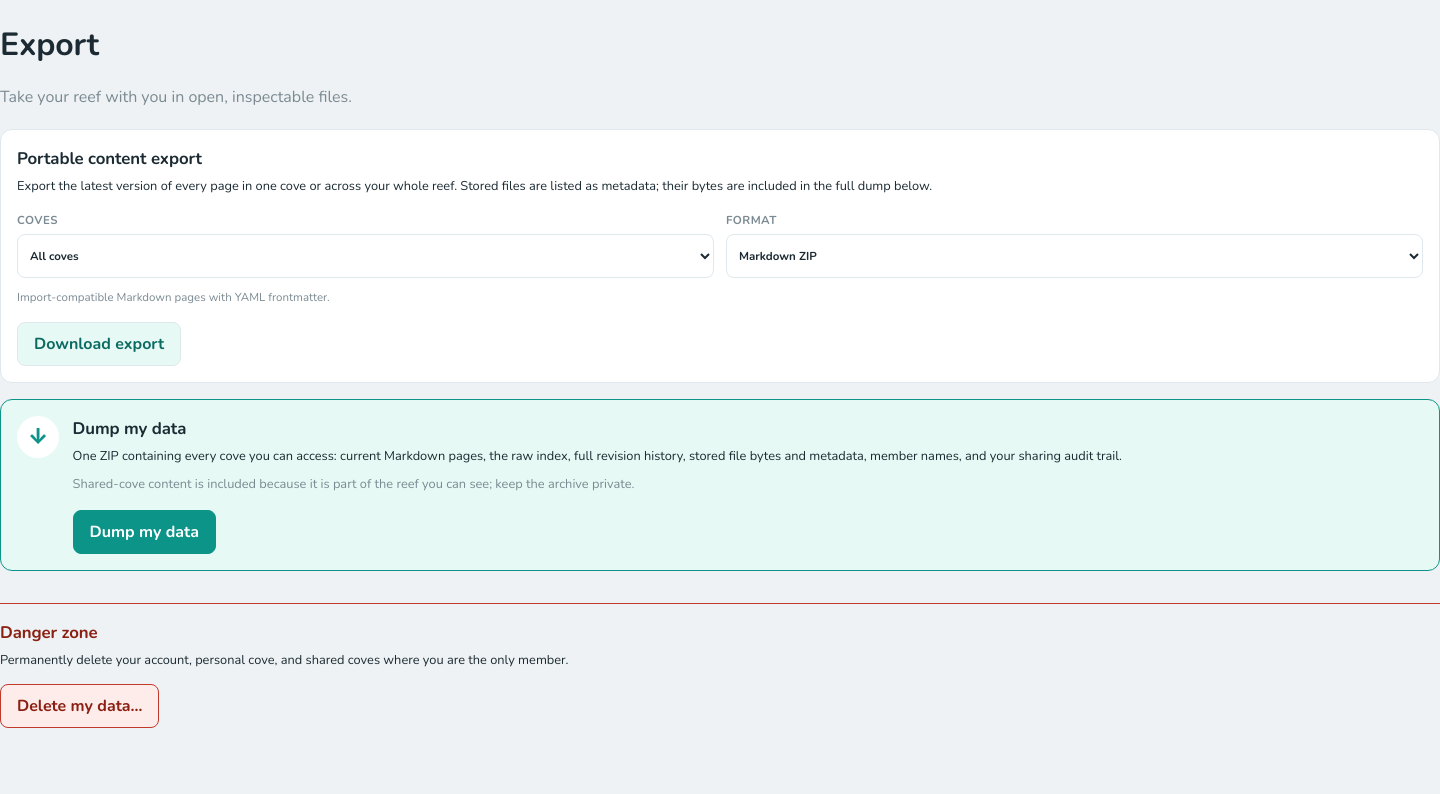
Test case: cancelling clears the guards rather than leaving them armed
Click the button "Delete my data…" at (80, 706), box x1=0 y1=684 x2=160 y2=728
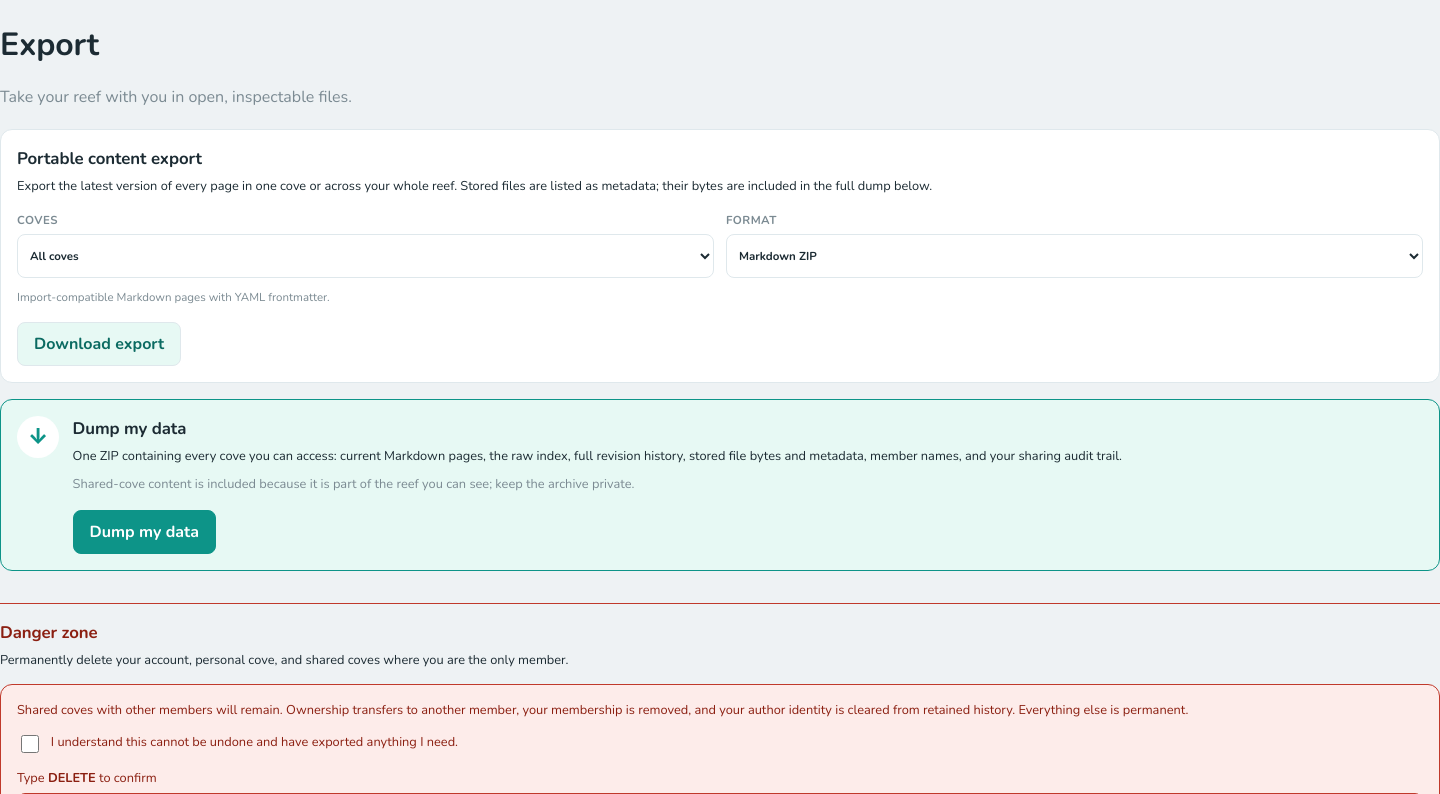
Click the checkbox at (30, 744), box x1=21 y1=735 x2=39 y2=753
(page scrolled)
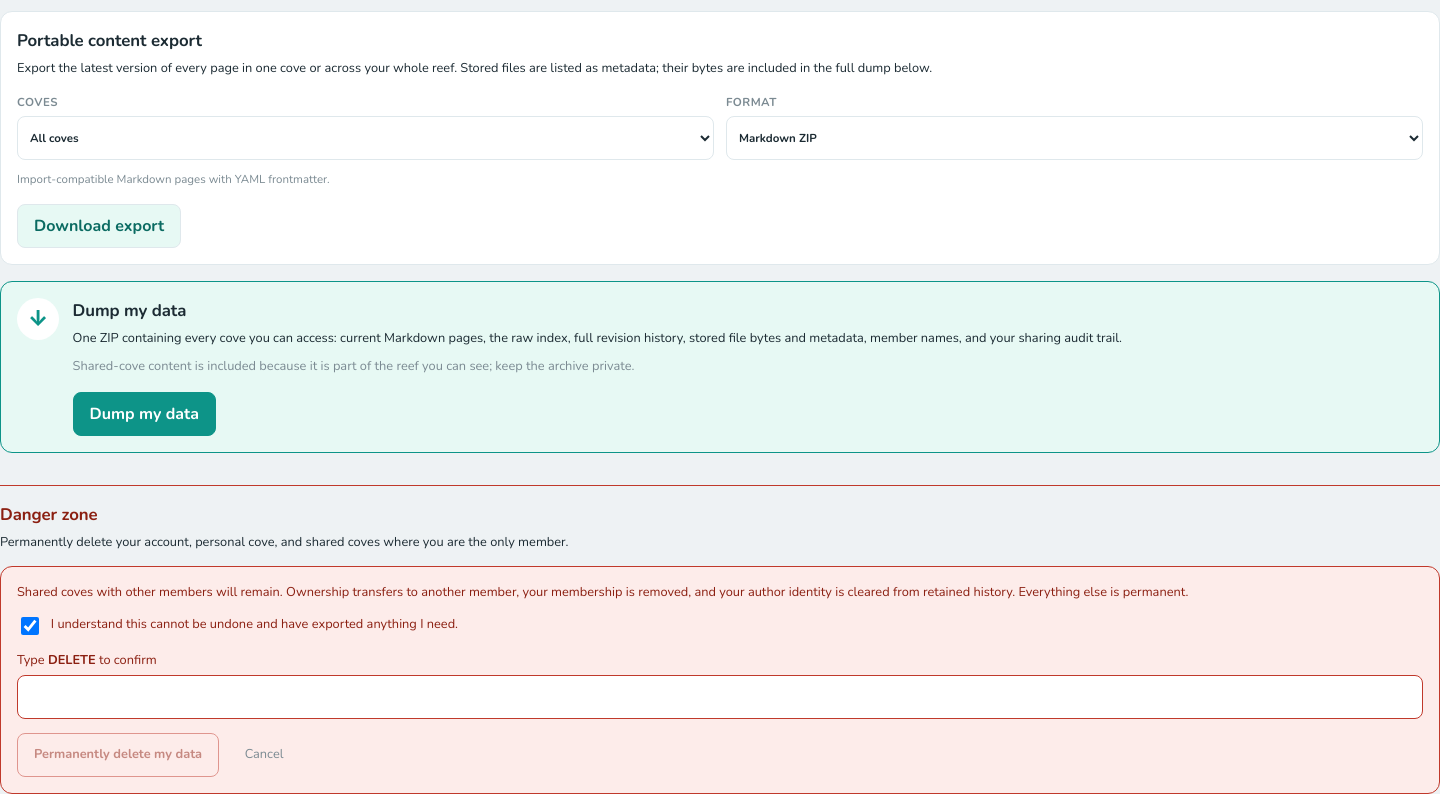
Type "DELETE" into the field labelled "Type DELETE to confirm" at (720, 697), box x1=17 y1=675 x2=1423 y2=719
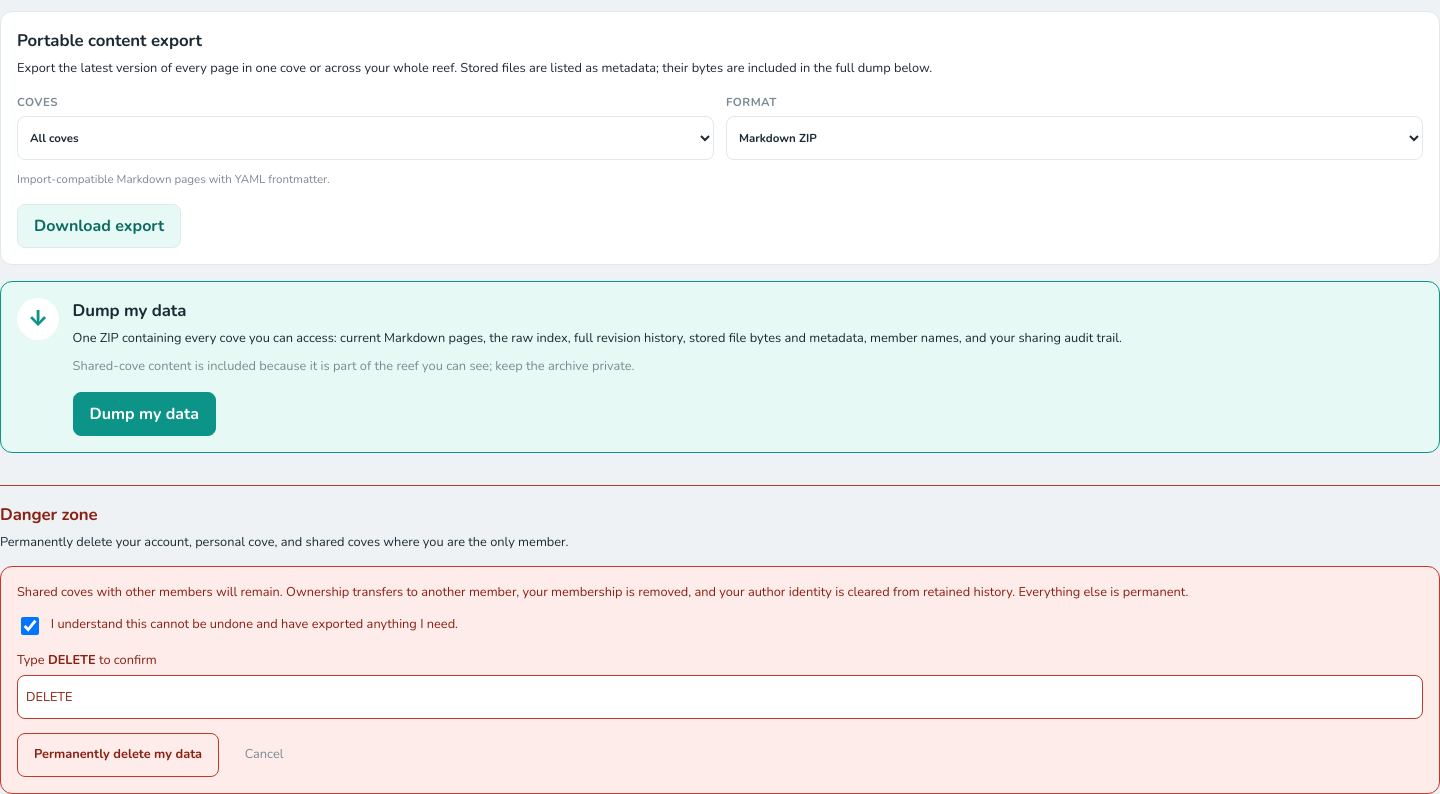
Click the button "Cancel" at (264, 755), box x1=229 y1=733 x2=300 y2=777
(page scrolled)
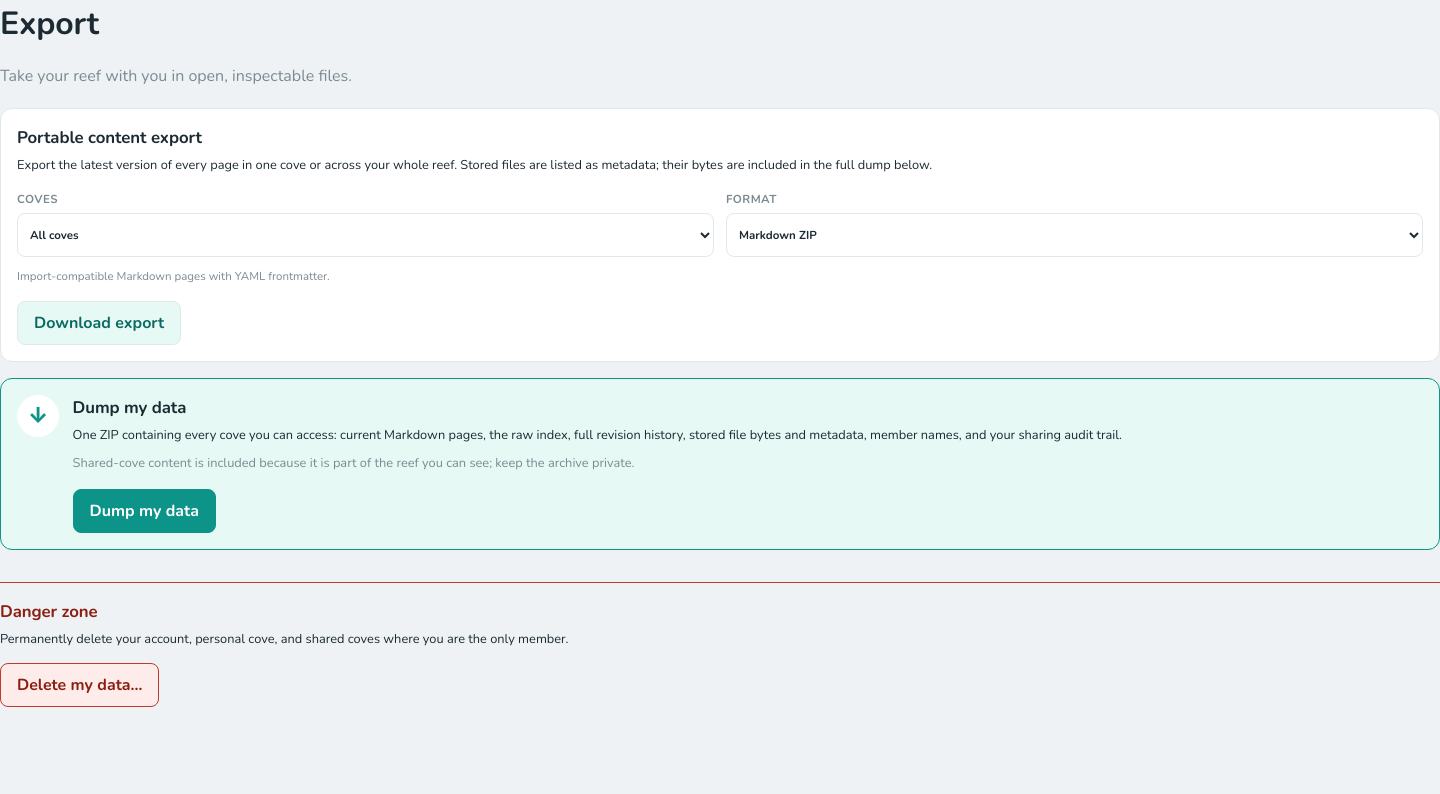
Click the button "Delete my data…" at (80, 685), box x1=0 y1=663 x2=160 y2=707
(page scrolled)
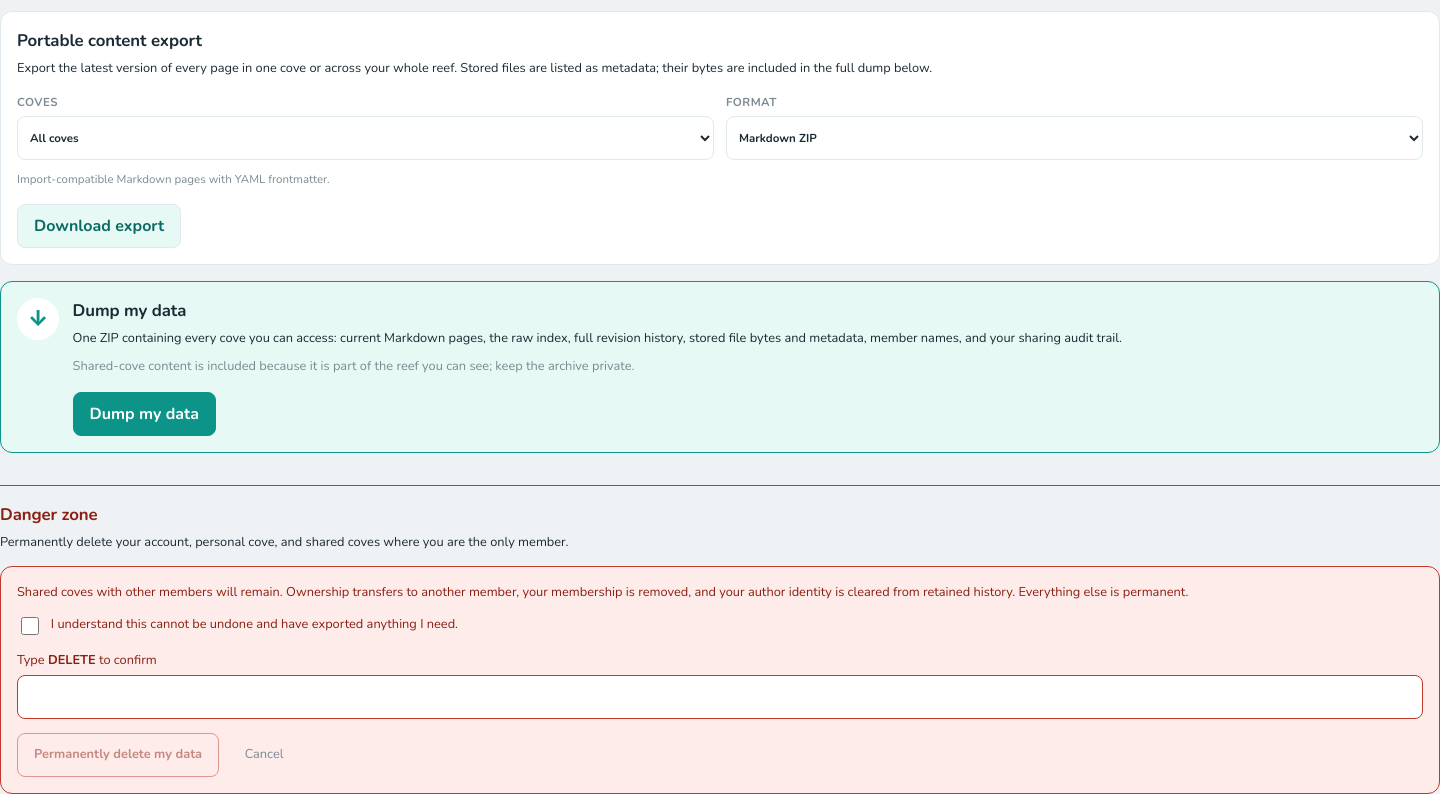
Result: the checkbox is not checked at x1=21 y1=617 x2=39 y2=635
Result: the button "Permanently delete my data" is disabled at x1=17 y1=733 x2=219 y2=777
